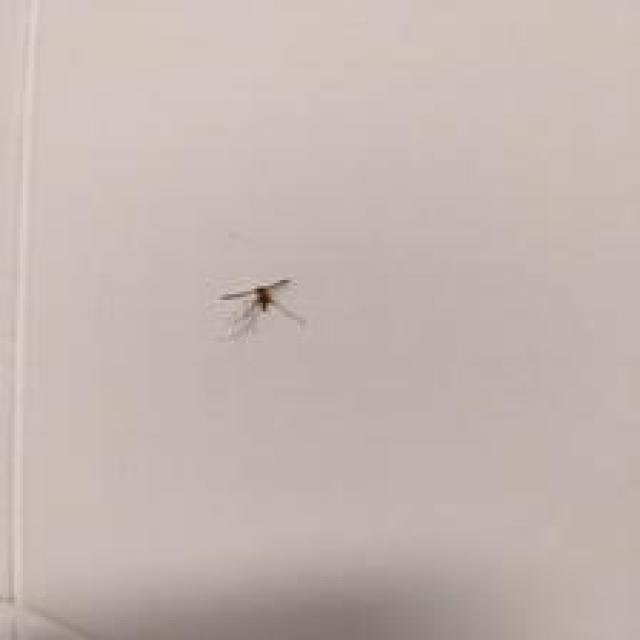Culex: (219, 276, 307, 341)
